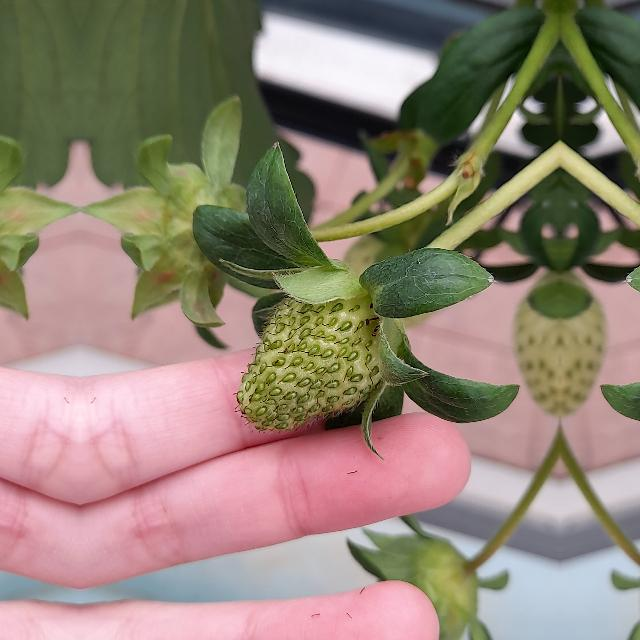Health_25: (236, 292, 382, 430)
